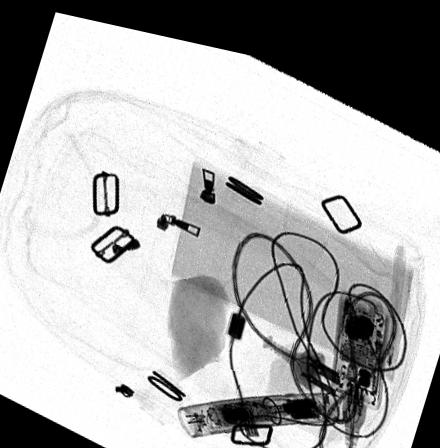Baton: (177, 377, 340, 431)
